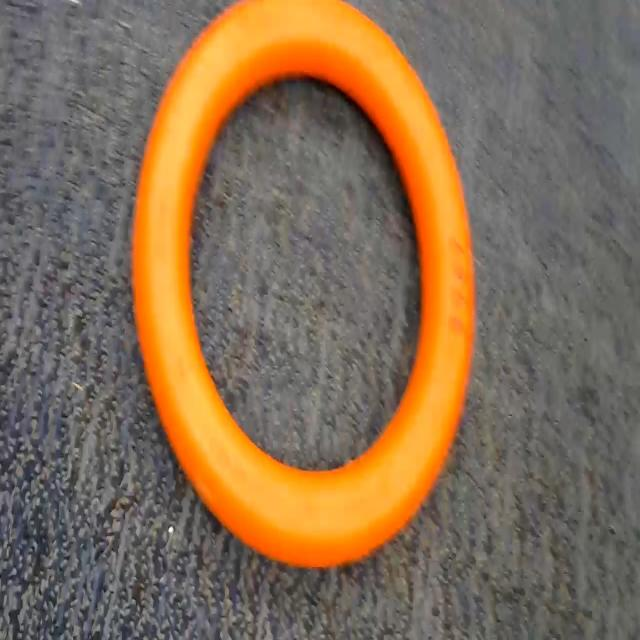note: (125, 3, 493, 578)
